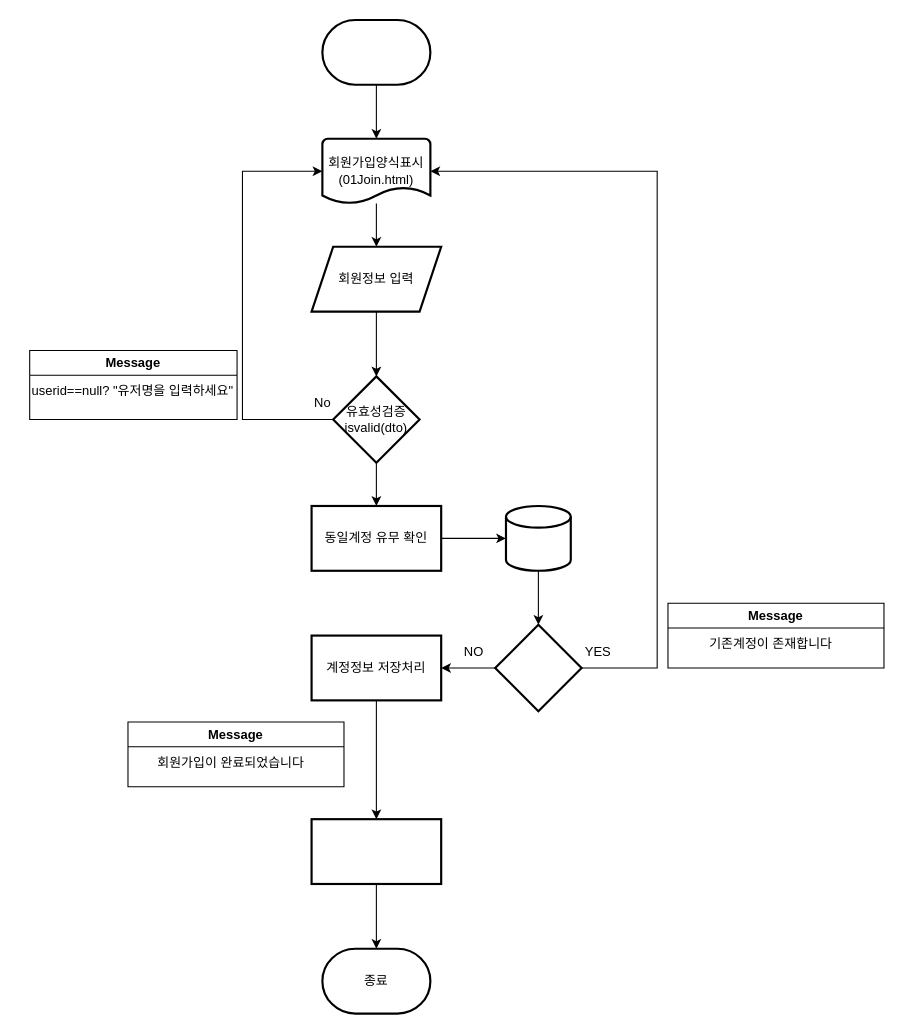
This 903x1032 diagram has some shape labels left out. The shapes that lost their labels are listed below. From the top down, each one's centre as x and y in pixels, then its label:
pixel 376 51: 시작
pixel 537 537: tbl_user
pixel 538 667: 기존 계정 존재 유무
pixel 376 851: 로그인 페이지로 리다이렉트
